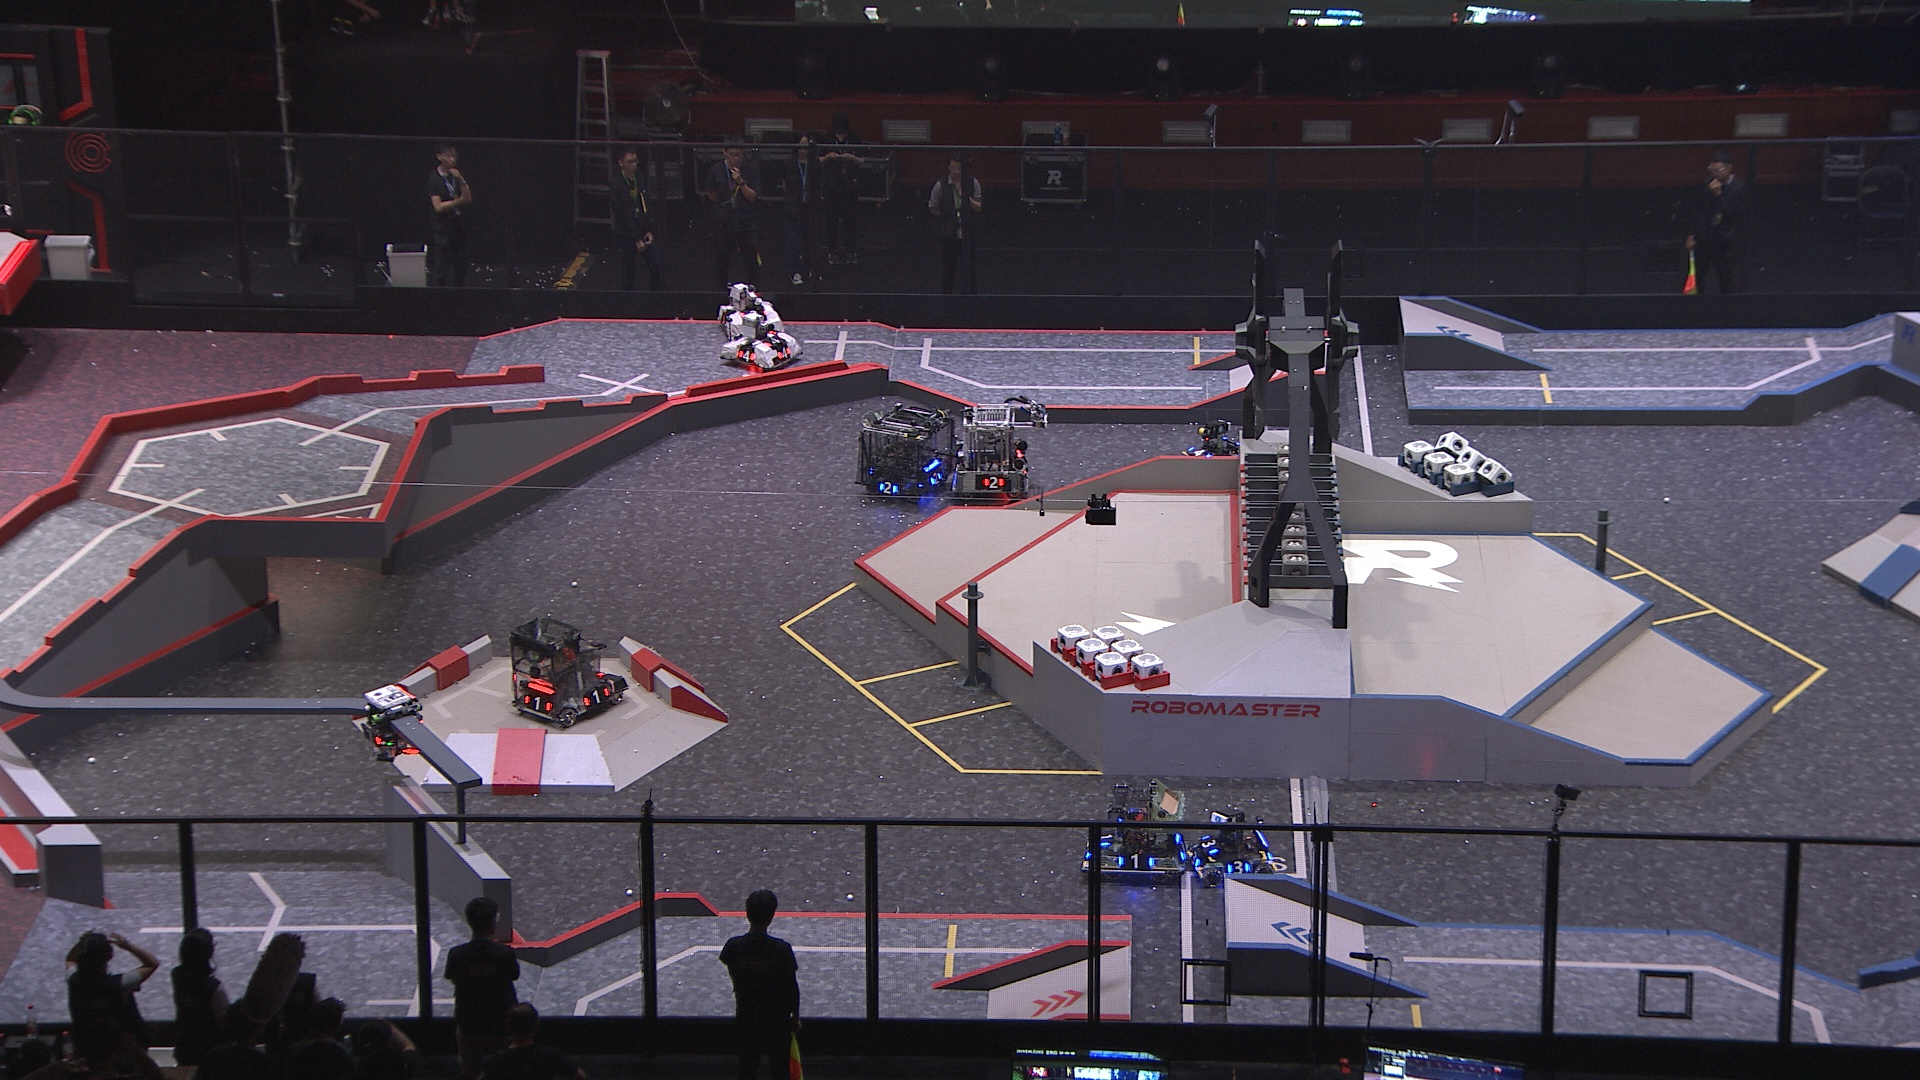armor: (1117, 851, 1153, 870), (580, 688, 613, 708), (520, 694, 553, 713), (357, 723, 385, 745), (1224, 858, 1253, 877), (877, 479, 901, 498), (978, 475, 1007, 491), (1199, 833, 1218, 856), (1188, 444, 1211, 460), (927, 469, 945, 488), (1098, 831, 1114, 851), (774, 345, 793, 361), (736, 348, 756, 363), (1178, 840, 1191, 860), (764, 334, 783, 347), (1188, 849, 1200, 870)
car: (508, 615, 628, 732), (1077, 779, 1195, 884), (852, 404, 957, 505), (942, 404, 1031, 504), (1185, 807, 1273, 889), (717, 310, 806, 371), (1182, 417, 1261, 473), (717, 282, 783, 347)
watcher: (356, 680, 425, 761)
